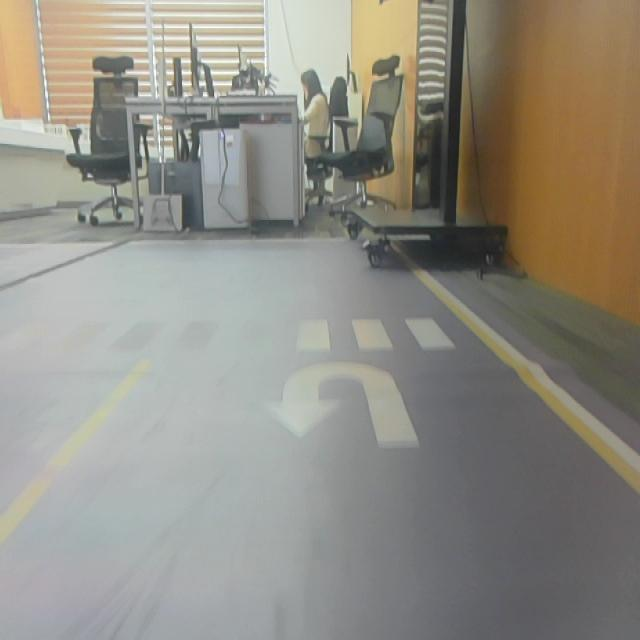left_lane: (0, 359, 148, 544)
right_lane: (395, 243, 640, 487)
